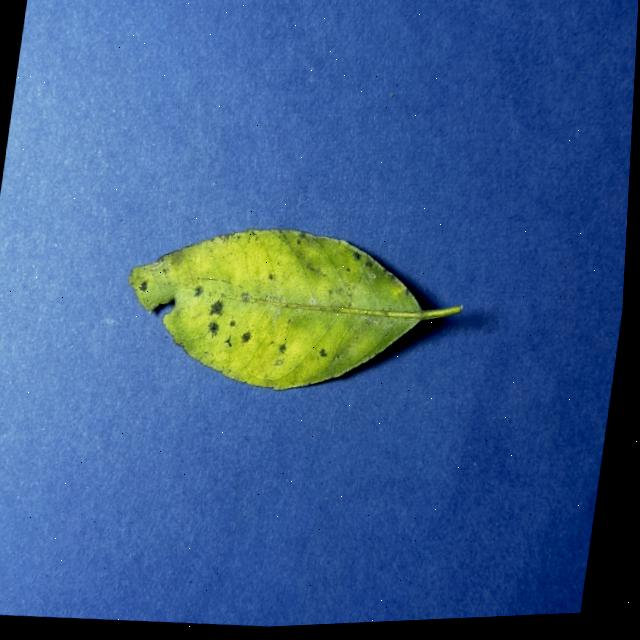sooty_mold: (129, 228, 461, 388)
